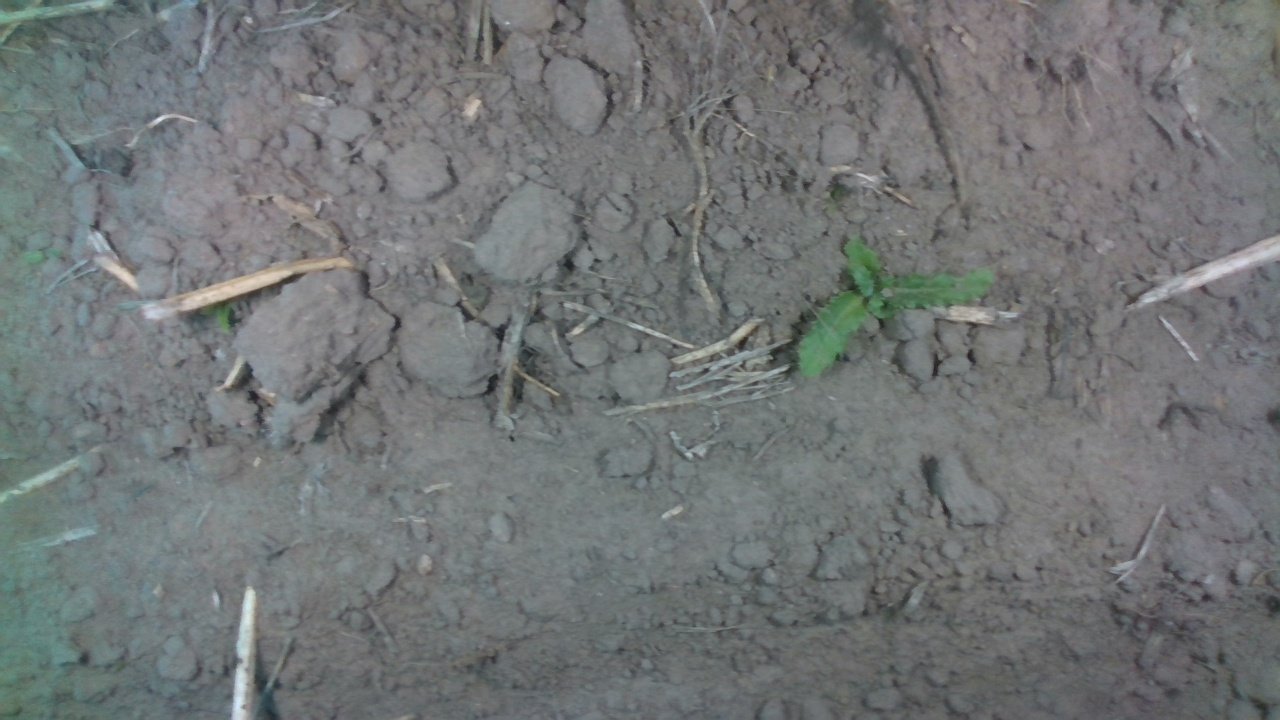weed: (794, 234, 999, 379)
